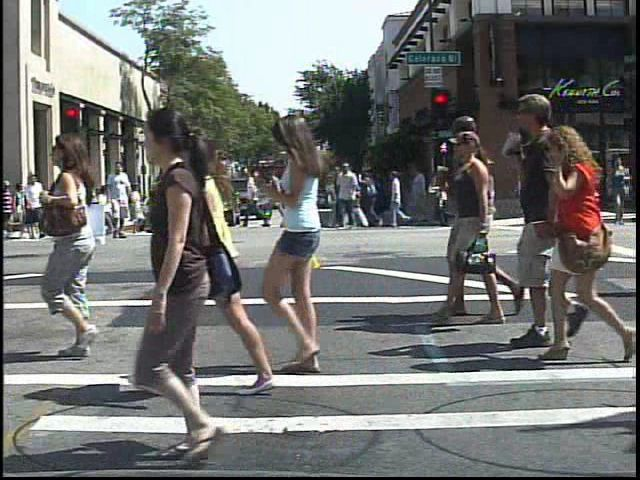person: (102, 101, 277, 469), (163, 118, 299, 399), (476, 82, 576, 353), (29, 129, 133, 366), (263, 110, 355, 374), (539, 125, 639, 363), (105, 161, 138, 242), (58, 163, 89, 242), (470, 157, 501, 230), (22, 169, 47, 242), (3, 173, 18, 240), (98, 179, 118, 223)
